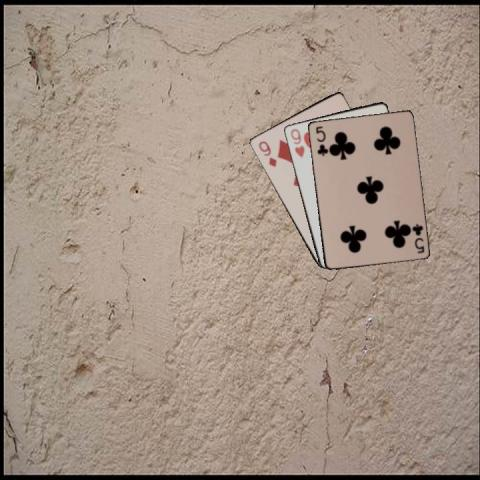5c: (409, 221, 425, 255), (313, 123, 328, 157)
9d: (255, 137, 278, 169)
9h: (287, 125, 306, 159)
